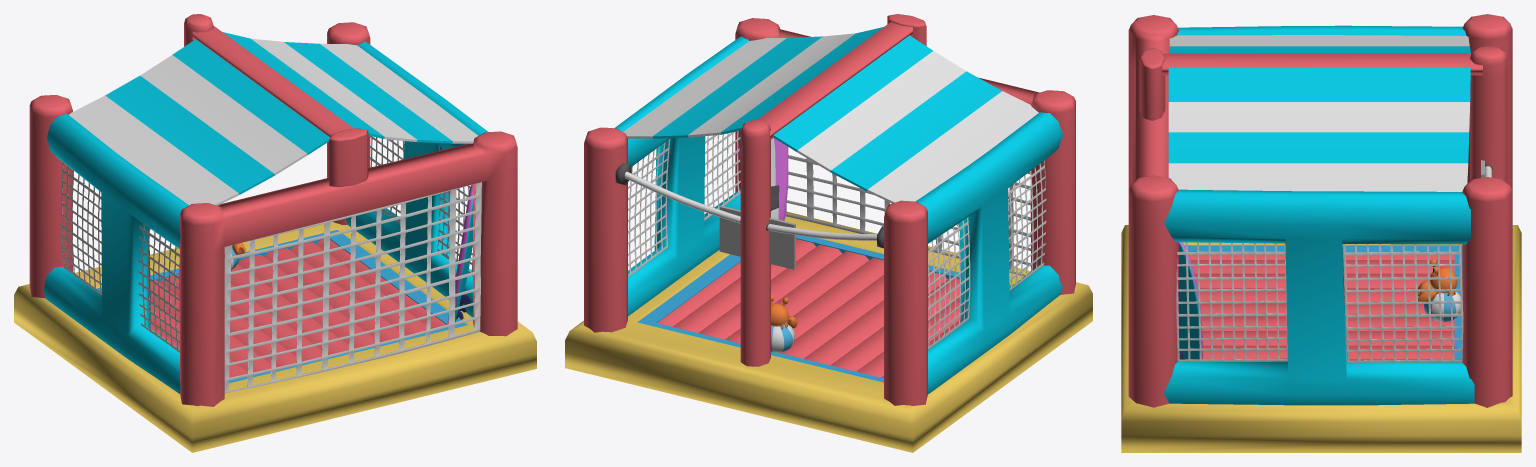
The model's file is BaseInicioTuto2.fbx.
3 renders of one model, left to right at view 1: azimuth 30°, elevation 25°; view 2: azimuth 150°, elevation 25°; view 3: azimuth 270°, elevation 25°, orthographic. The views are drawn at different scales.
Parts seen in each view (by area): view 1: walls, base, surfBoard, pilar; view 2: walls, base, pilar, cuerda1, posibleCartel, surfBoard, cr4by; view 3: walls, base, pilar, surfBoard, cr4by.
Part boxes in pixels (x1,y1,x2,y2): walls: [29, 22, 517, 406]; base: [14, 222, 536, 452]; surfBoard: [447, 184, 473, 323]; pilar: [184, 14, 213, 46]; walls: [584, 14, 1075, 405]; base: [565, 211, 1092, 452]; pilar: [740, 120, 770, 366]; cuerda1: [615, 163, 883, 248]; posibleCartel: [719, 205, 795, 269]; surfBoard: [739, 130, 788, 220]; cr4by: [771, 295, 797, 352]; walls: [1128, 14, 1512, 407]; base: [1121, 225, 1521, 452]; pilar: [1470, 46, 1507, 183]; surfBoard: [1179, 242, 1202, 359]; cr4by: [1417, 259, 1460, 322].
Size of the model in its own units: 4553 by 3447 by 4080.
